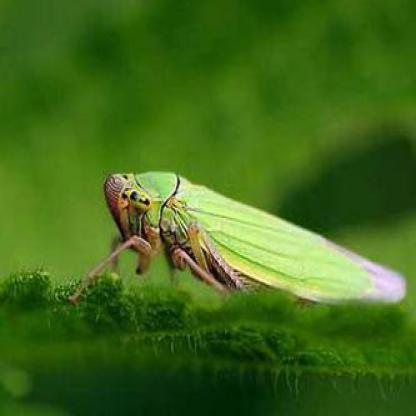Green-Leafhopper: (58, 169, 416, 318)
